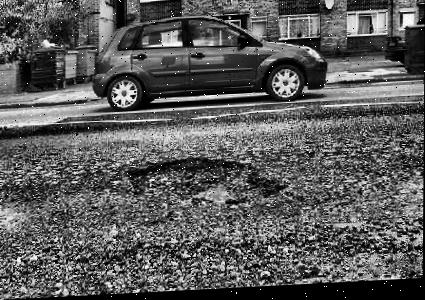pothole: (126, 153, 287, 214)
